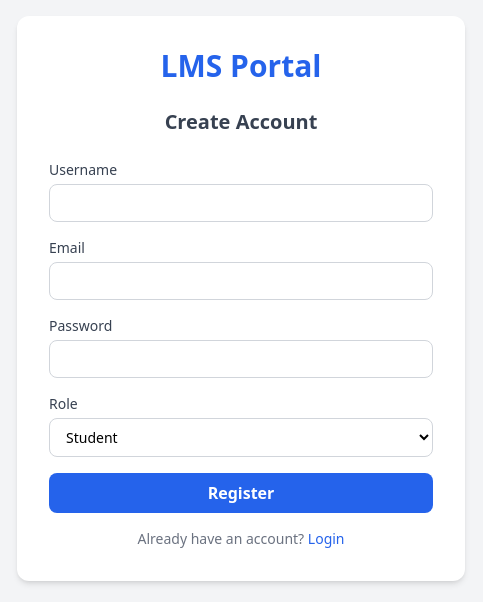
Register Page › shows loading state while submitting
Type "student1" into the field labelled "Username" at (241, 202), box [49,184,433,222]
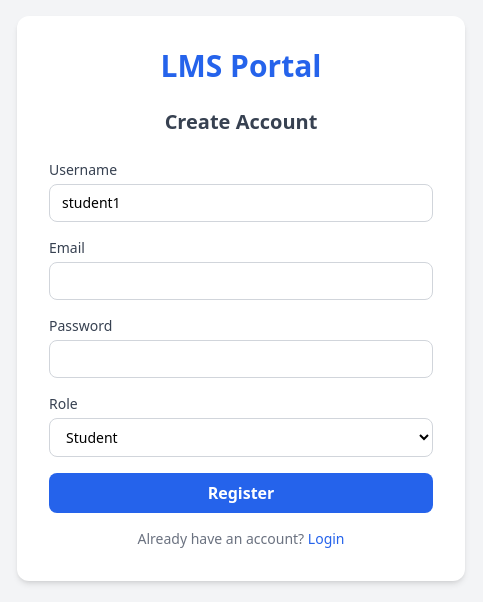
Type "pass1234" into the password field labelled "Password" at (241, 358), box [49,340,433,378]
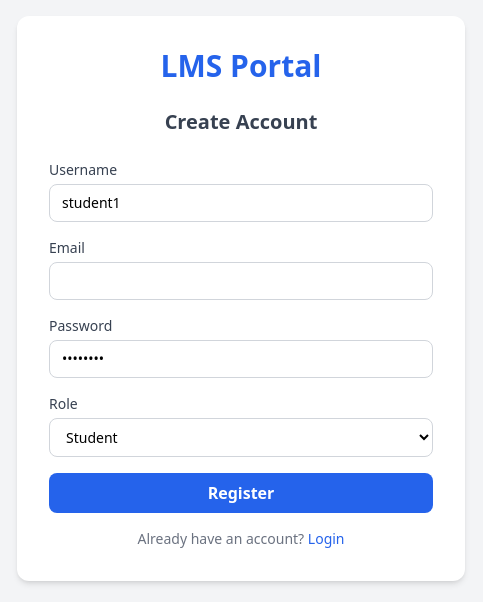
Click the button "Register" at (241, 492), box [49,472,433,512]
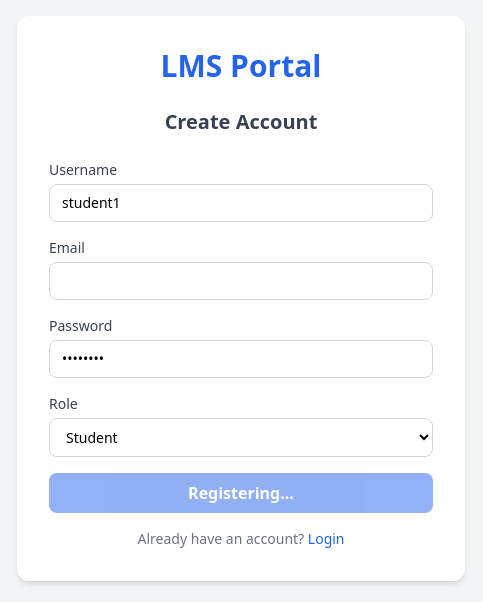
Now the button "Registering..." is disabled, box [49,472,433,512]
